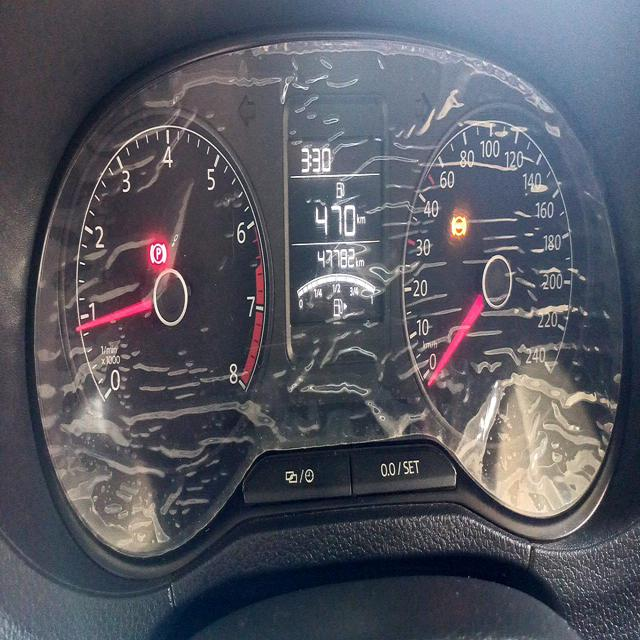odometer: (314, 246, 355, 272)
